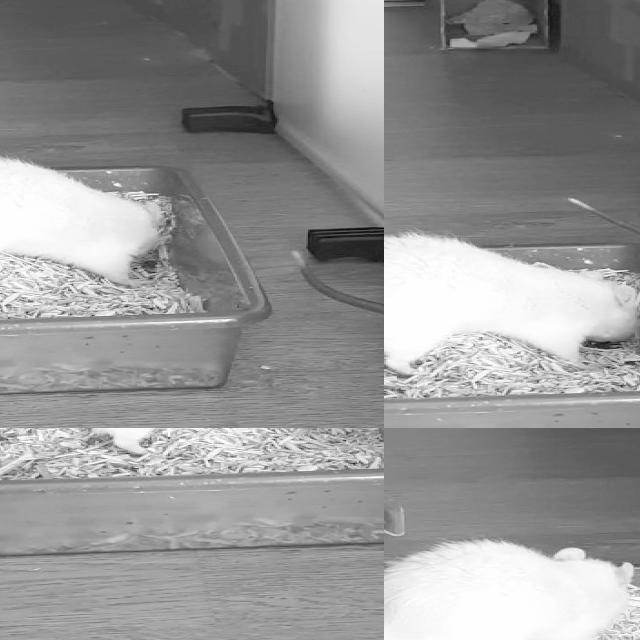rat: (384, 235, 640, 370), (384, 533, 639, 640), (0, 154, 163, 294)
